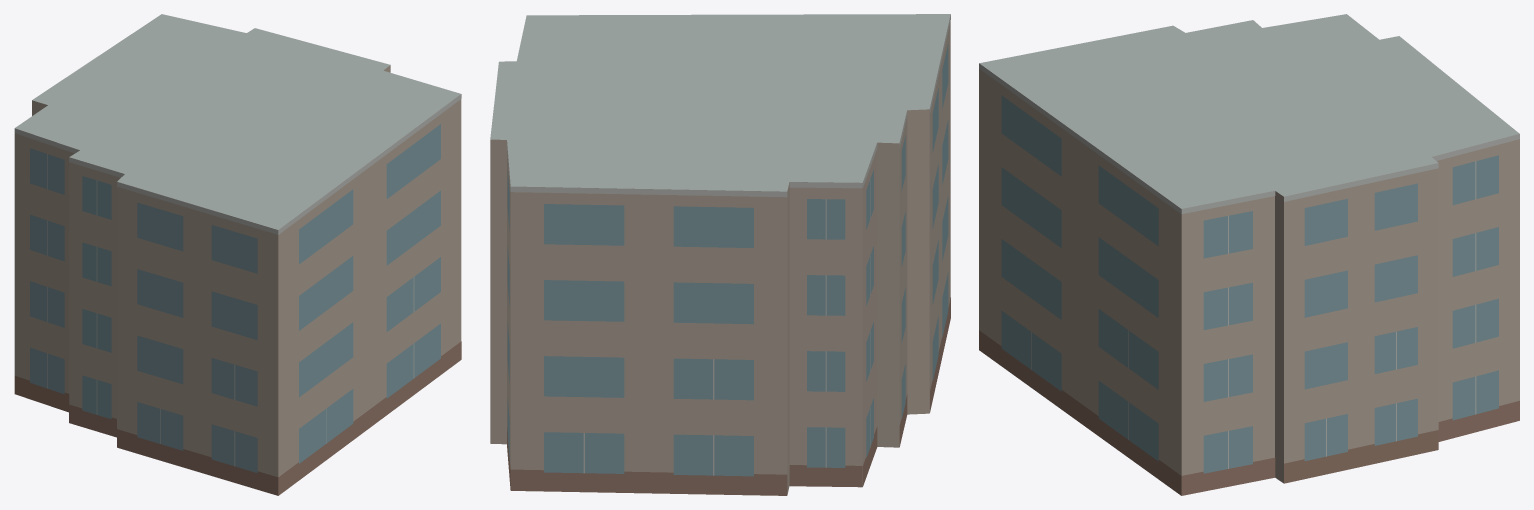
Rendered from survey-upis-32604161.glb.
The picture shows the model from 3 angles, left to right: view 1: azimuth 30°, elevation 25°; view 2: azimuth 150°, elevation 25°; view 3: azimuth 270°, elevation 25°; orthographic projection. The views are drawn at different scales.
Visible parts, largest first — view 1: survey-upis-32604161.tmp; view 2: survey-upis-32604161.tmp; view 3: survey-upis-32604161.tmp.
Part boxes in pixels (bbox=[...]): survey-upis-32604161.tmp: bbox=[14, 14, 461, 495]; survey-upis-32604161.tmp: bbox=[490, 14, 950, 495]; survey-upis-32604161.tmp: bbox=[979, 14, 1519, 495].
Size of the model in its own units: 19.4 by 13.3 by 22.73.
